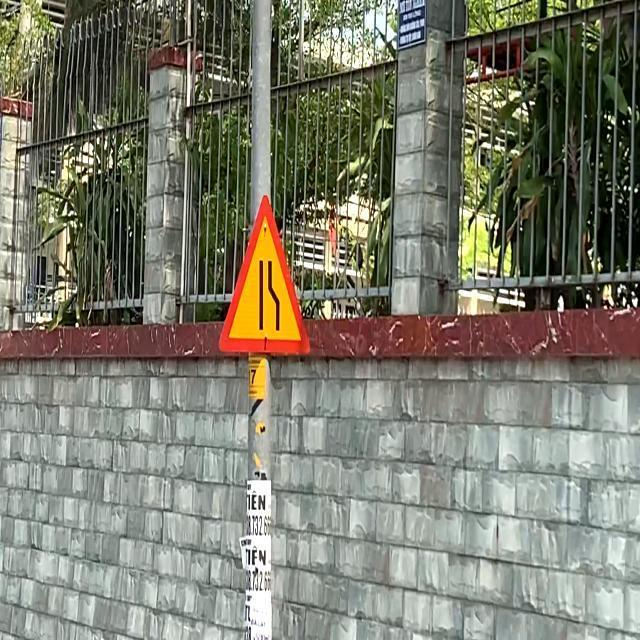203-duong-bi-hep: (216, 199, 312, 357)
